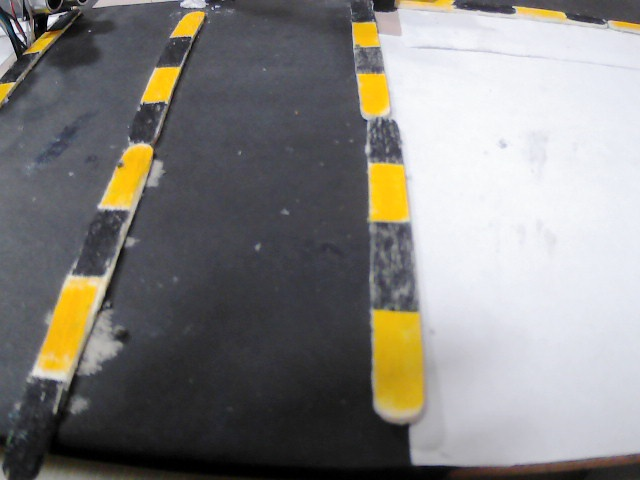black_strip: (2, 377, 67, 480), (367, 226, 417, 308), (76, 210, 128, 272), (360, 117, 413, 164), (127, 99, 173, 142), (158, 31, 195, 64), (351, 49, 388, 75), (447, 5, 512, 16), (349, 5, 376, 19), (567, 13, 596, 24), (97, 204, 102, 212)
mixed_lane: (348, 0, 640, 420), (1, 15, 200, 480), (0, 3, 86, 100)
uno_breadboard: (1, 0, 64, 30)
yellow_strip: (36, 279, 96, 374), (378, 311, 421, 423), (98, 142, 156, 208), (369, 164, 409, 221), (144, 64, 181, 106), (359, 71, 391, 116), (508, 1, 567, 22), (28, 24, 59, 55), (354, 22, 385, 48), (173, 11, 202, 38), (400, 0, 456, 10), (595, 19, 640, 28), (0, 80, 14, 97)
